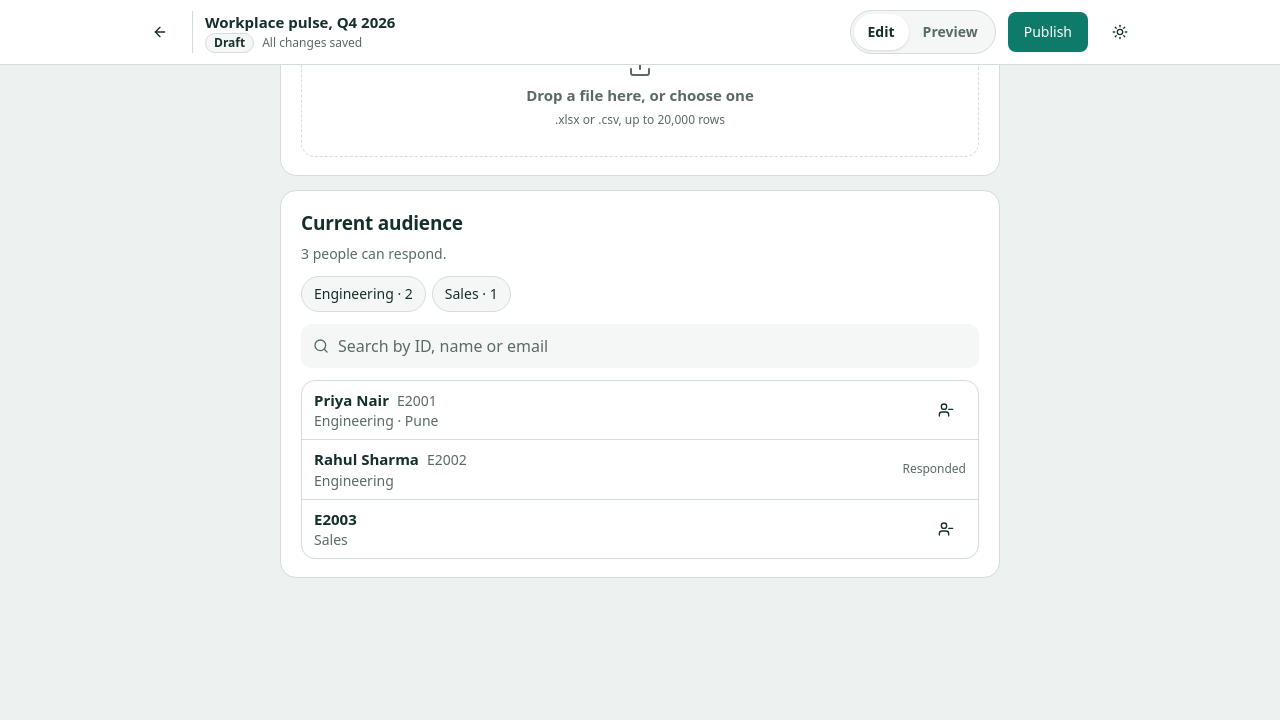
Test: Audience tab › removes someone who has not responded
(page scrolled)
Click the button named "Remove Priya Nair".
click(946, 410)  # box [926, 390, 966, 430]
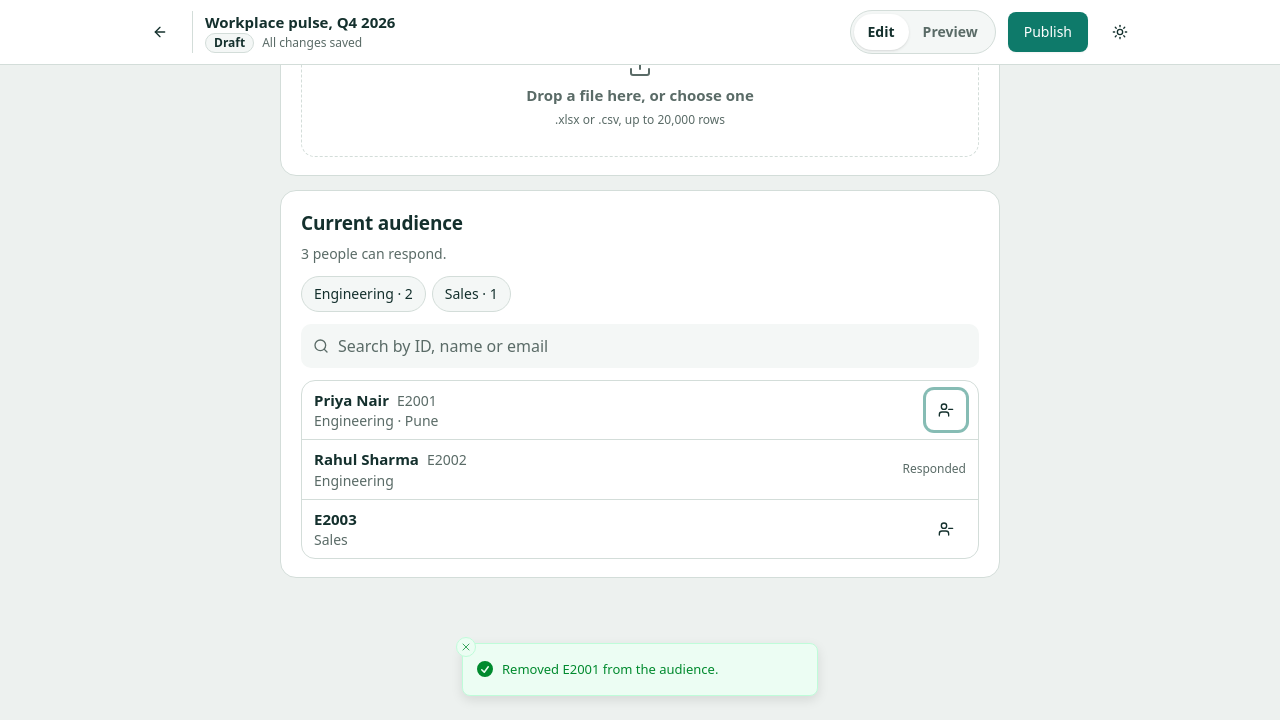
Expected: the text "Removed E2001 from the audience." is shown, [502, 660, 718, 679]
